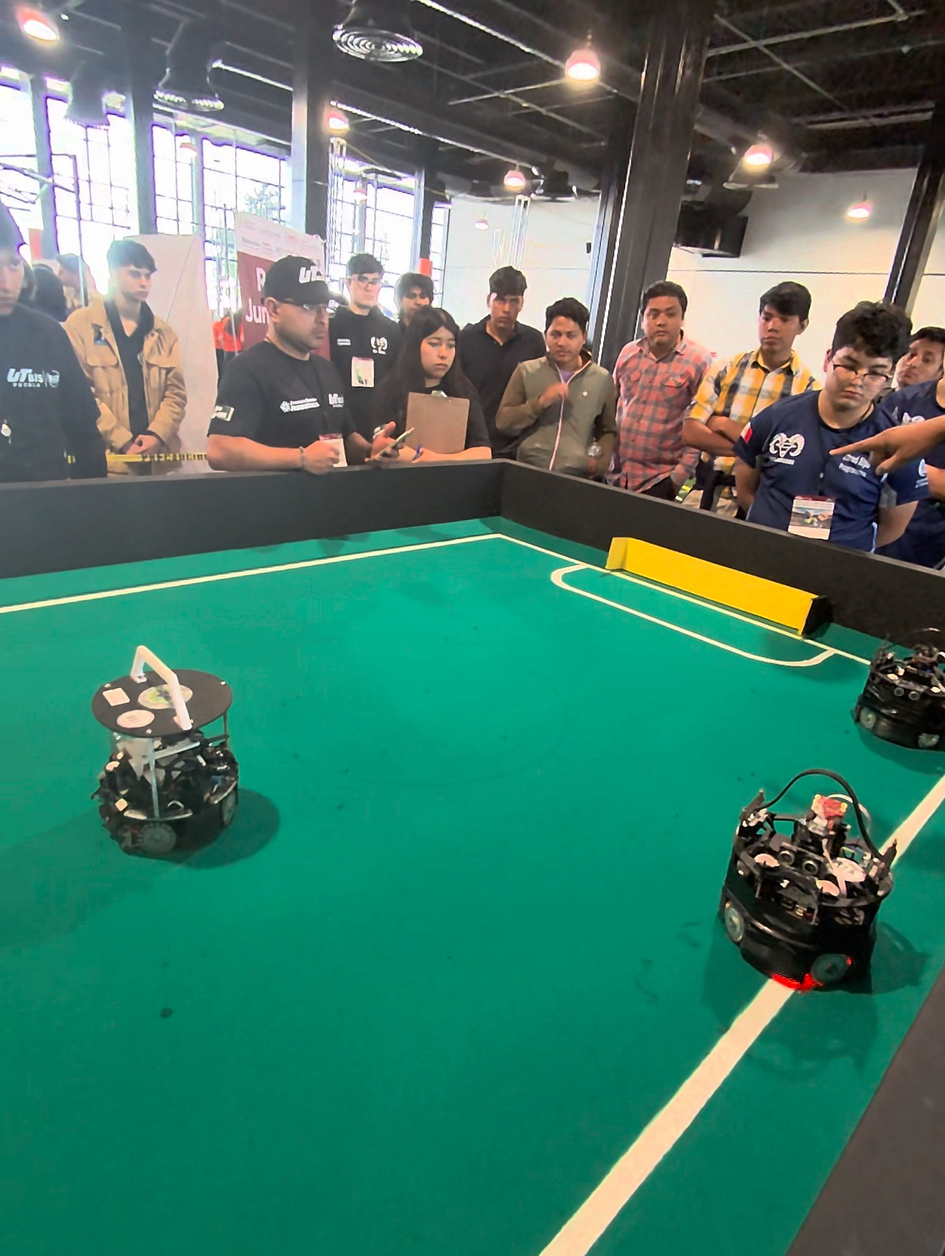Robot: (721, 751, 901, 1009), (85, 631, 263, 871), (856, 622, 945, 758)
